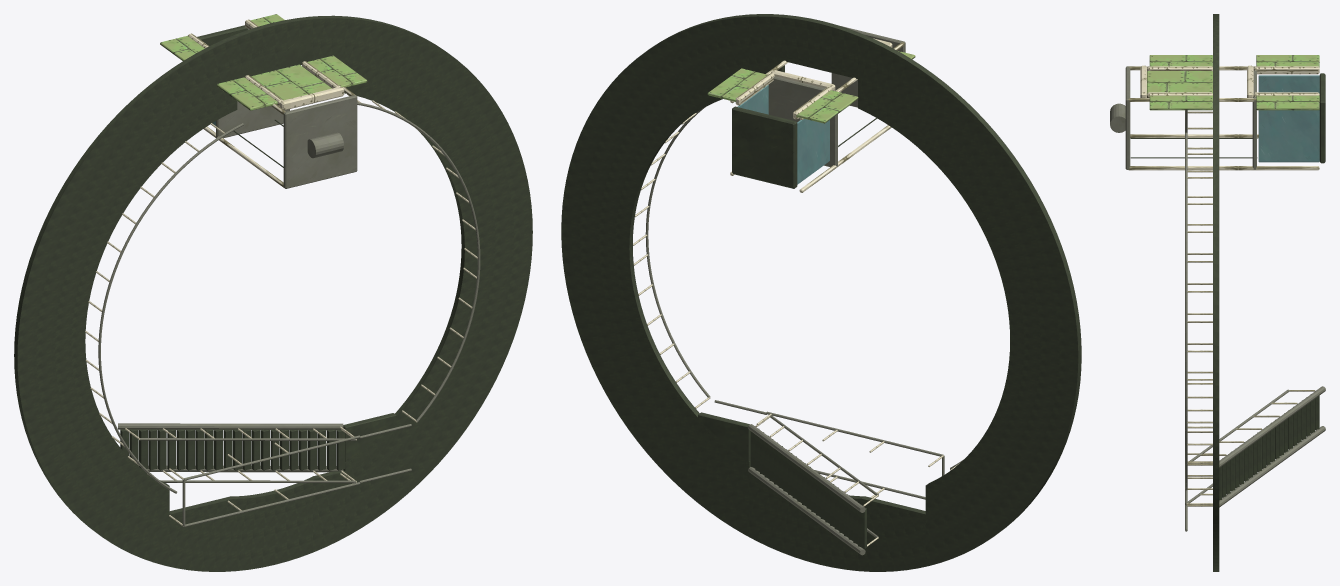
File: ECHO7_Nucleo_Entre_Cubiertas.obj
The picture shows the model from 3 angles, left to right: view 1: azimuth 30°, elevation 25°; view 2: azimuth 150°, elevation 25°; view 3: azimuth 270°, elevation 25°; orthographic projection. The views are drawn at different scales.
Visible parts, largest first — view 1: ECHO7_29_Ascensor_Carga__Travesano_ascensor_02, ECHO7_28_Escalera_Entre_Cubiertas__Descanso_superior_01, ECHO7_29_Ascensor_Carga__Rellano_superior_ascensor_01, ECHO7_29_Ascensor_Carga__Compuerta_superior_cerrada_01, ECHO7_28_Escalera_Entre_Cubiertas__Zanca_escalera_02, ECHO7_29_Ascensor_Carga__Travesano_ascensor_01, ECHO7_29_Ascensor_Carga__Hoja_puerta_aparcada_03, ECHO7_29_Ascensor_Carga__Hoja_puerta_aparcada_04, ECHO7_29_Ascensor_Carga__Motor_ascensor_01, ECHO7_29_Ascensor_Carga__Dintel_puerta_02; view 2: ECHO7_29_Ascensor_Carga__Plataforma_ascensor_01, ECHO7_29_Ascensor_Carga__Travesano_ascensor_01, ECHO7_28_Escalera_Entre_Cubiertas__Descanso_superior_01, ECHO7_29_Ascensor_Carga__Costado_cabina_ascensor_01, ECHO7_29_Ascensor_Carga__Hoja_puerta_aparcada_01, ECHO7_28_Escalera_Entre_Cubiertas__Zanca_escalera_02, ECHO7_29_Ascensor_Carga__Hoja_puerta_aparcada_02, ECHO7_28_Escalera_Entre_Cubiertas__Zanca_escalera_01, ECHO7_29_Ascensor_Carga__Travesano_ascensor_02; view 3: ECHO7_29_Ascensor_Carga__Costado_cabina_ascensor_02, ECHO7_29_Ascensor_Carga__Compuerta_superior_cerrada_01, ECHO7_29_Ascensor_Carga__Costado_cabina_ascensor_01, ECHO7_29_Ascensor_Carga__Hoja_puerta_aparcada_04, ECHO7_29_Ascensor_Carga__Hoja_puerta_aparcada_02, ECHO7_29_Ascensor_Carga__Guia_ascensor_03, ECHO7_28_Escalera_Entre_Cubiertas__Zanca_escalera_02, ECHO7_28_Escalera_Entre_Cubiertas__Zanca_escalera_01, ECHO7_29_Ascensor_Carga__Hoja_puerta_aparcada_01, ECHO7_29_Ascensor_Carga__Hoja_puerta_aparcada_03, ECHO7_29_Ascensor_Carga__Plataforma_ascensor_01, ECHO7_29_Ascensor_Carga__Travesano_ascensor_02 (+6 smaller).
Part boxes in pixels (box(x1,y1,x2,y2)): ECHO7_29_Ascensor_Carga__Travesano_ascensor_02: box(283, 95, 357, 188); ECHO7_28_Escalera_Entre_Cubiertas__Descanso_superior_01: box(343, 413, 396, 469); ECHO7_29_Ascensor_Carga__Rellano_superior_ascensor_01: box(236, 34, 313, 78); ECHO7_29_Ascensor_Carga__Compuerta_superior_cerrada_01: box(251, 64, 331, 100); ECHO7_28_Escalera_Entre_Cubiertas__Zanca_escalera_02: box(118, 423, 343, 430); ECHO7_29_Ascensor_Carga__Travesano_ascensor_01: box(216, 101, 289, 138); ECHO7_29_Ascensor_Carga__Hoja_puerta_aparcada_03: box(217, 77, 277, 110); ECHO7_29_Ascensor_Carga__Hoja_puerta_aparcada_04: box(307, 55, 367, 87); ECHO7_29_Ascensor_Carga__Motor_ascensor_01: box(307, 132, 343, 158); ECHO7_29_Ascensor_Carga__Dintel_puerta_02: box(280, 86, 344, 110); ECHO7_29_Ascensor_Carga__Plataforma_ascensor_01: box(732, 106, 797, 188); ECHO7_29_Ascensor_Carga__Travesano_ascensor_01: box(767, 74, 837, 167); ECHO7_28_Escalera_Entre_Cubiertas__Descanso_superior_01: box(698, 412, 750, 468); ECHO7_29_Ascensor_Carga__Costado_cabina_ascensor_01: box(797, 119, 829, 184); ECHO7_29_Ascensor_Carga__Hoja_puerta_aparcada_01: box(796, 90, 858, 123); ECHO7_28_Escalera_Entre_Cubiertas__Zanca_escalera_02: box(748, 424, 865, 512); ECHO7_29_Ascensor_Carga__Hoja_puerta_aparcada_02: box(707, 68, 767, 101); ECHO7_28_Escalera_Entre_Cubiertas__Zanca_escalera_01: box(748, 467, 865, 555); ECHO7_29_Ascensor_Carga__Travesano_ascensor_02: box(831, 26, 905, 107); ECHO7_29_Ascensor_Carga__Costado_cabina_ascensor_02: box(1258, 110, 1319, 161); ECHO7_29_Ascensor_Carga__Compuerta_superior_cerrada_01: box(1147, 71, 1212, 93); ECHO7_29_Ascensor_Carga__Costado_cabina_ascensor_01: box(1258, 75, 1319, 93); ECHO7_29_Ascensor_Carga__Hoja_puerta_aparcada_04: box(1149, 95, 1212, 110); ECHO7_29_Ascensor_Carga__Hoja_puerta_aparcada_02: box(1256, 95, 1319, 110); ECHO7_29_Ascensor_Carga__Guia_ascensor_03: box(1128, 166, 1319, 170); ECHO7_28_Escalera_Entre_Cubiertas__Zanca_escalera_02: box(1219, 386, 1325, 467); ECHO7_28_Escalera_Entre_Cubiertas__Zanca_escalera_01: box(1219, 426, 1325, 507); ECHO7_29_Ascensor_Carga__Hoja_puerta_aparcada_01: box(1256, 55, 1319, 67); ECHO7_29_Ascensor_Carga__Hoja_puerta_aparcada_03: box(1149, 55, 1212, 66); ECHO7_29_Ascensor_Carga__Plataforma_ascensor_01: box(1319, 73, 1325, 163); ECHO7_29_Ascensor_Carga__Travesano_ascensor_02: box(1125, 66, 1130, 169).
Size of the model in its own units: 22 by 22 by 8.51.
Materials: 6 (6 with a texture image).
